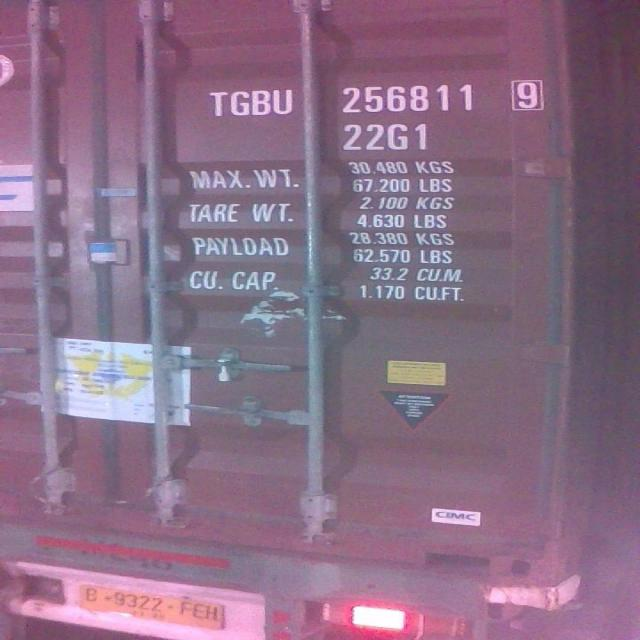seal: (212, 356, 239, 384)
